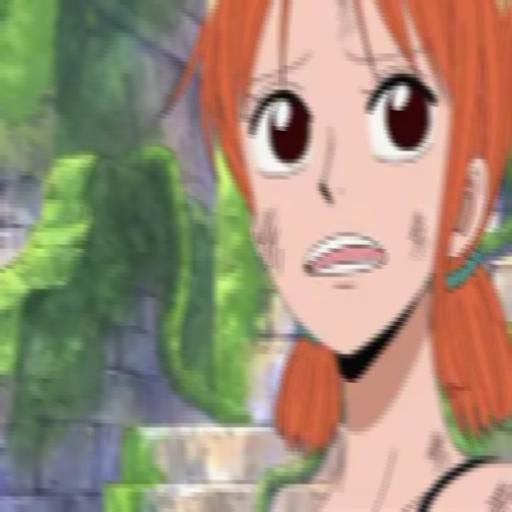Nami: (165, 2, 512, 511)
